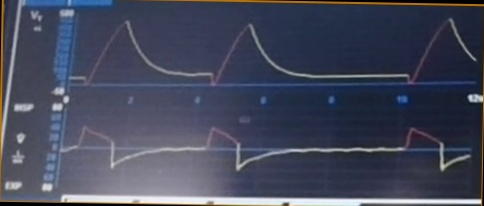Flow: (63, 122, 471, 189)
Leakage Volume: (72, 15, 477, 92)
